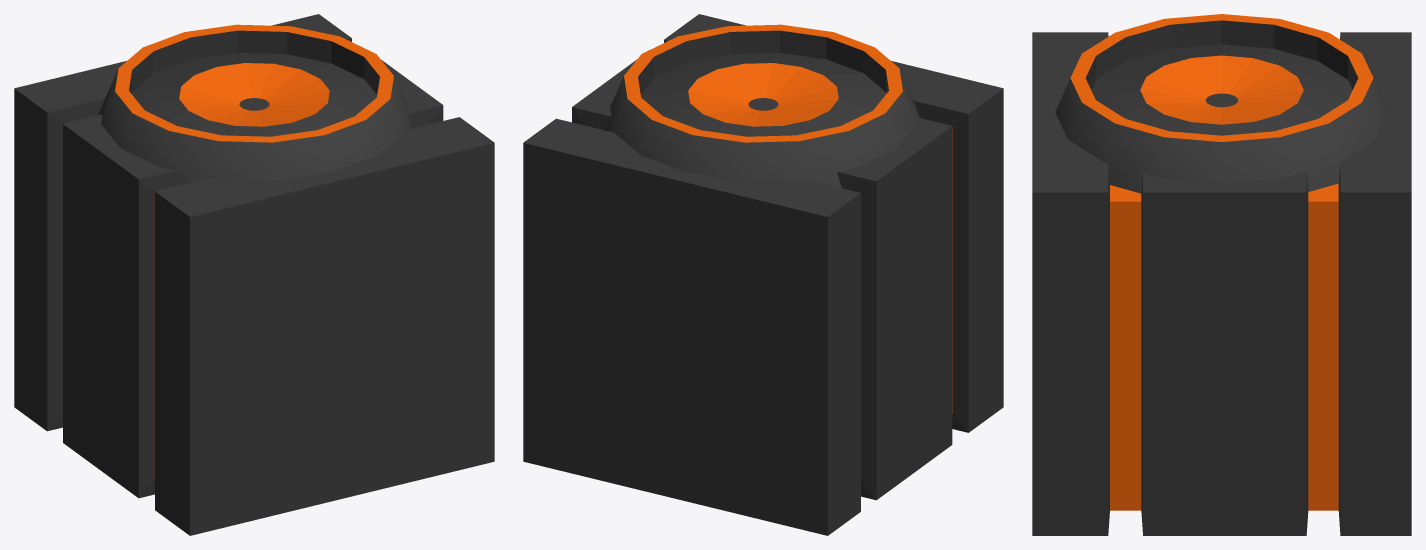
File: Teleporter.fbx
3 views of the same model, side by side, from view 1: azimuth 30°, elevation 25°; view 2: azimuth 150°, elevation 25°; view 3: azimuth 270°, elevation 25° (orthographic). The views are drawn at different scales.
Visible parts, largest first — view 1: Teleporter; view 2: Teleporter; view 3: Teleporter.
Boxes of the visible parts, x1=… form: Teleporter: x1=14, y1=14, x2=494, y2=535; Teleporter: x1=523, y1=14, x2=1003, y2=535; Teleporter: x1=1032, y1=14, x2=1411, y2=535.
Bounding box in the file's own units: 200 × 220 × 200.
